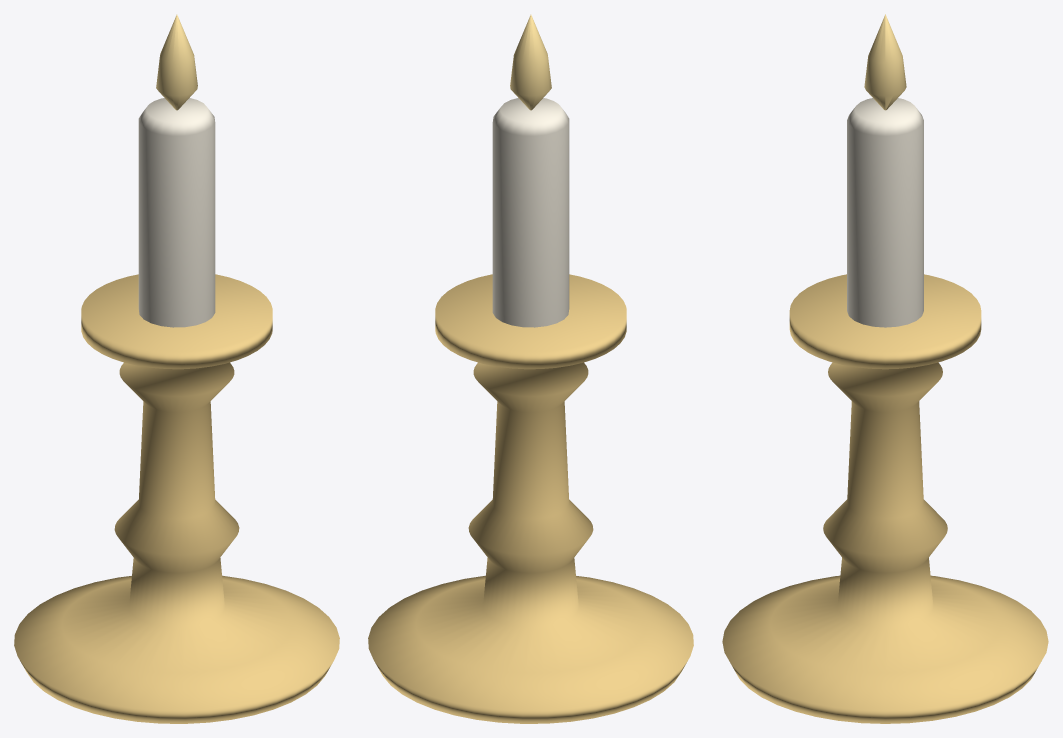
Rendered from candlestick4.glb.
The picture shows the model from 3 angles, left to right: view 1: azimuth 30°, elevation 25°; view 2: azimuth 150°, elevation 25°; view 3: azimuth 270°, elevation 25°; orthographic projection.
Parts seen in each view (by area): view 1: stick, wax, flame; view 2: stick, wax, flame; view 3: stick, wax, flame.
Boxes of the visible parts, <box> form: stick: <box>14,274,339,723</box>; wax: <box>138,98,215,327</box>; flame: <box>156,14,197,110</box>; stick: <box>368,274,693,723</box>; wax: <box>492,98,569,327</box>; flame: <box>510,14,551,110</box>; stick: <box>722,274,1048,723</box>; wax: <box>847,98,923,327</box>; flame: <box>864,14,906,110</box>.
Size of the model in its own units: 0.34 by 0.742 by 0.34.
